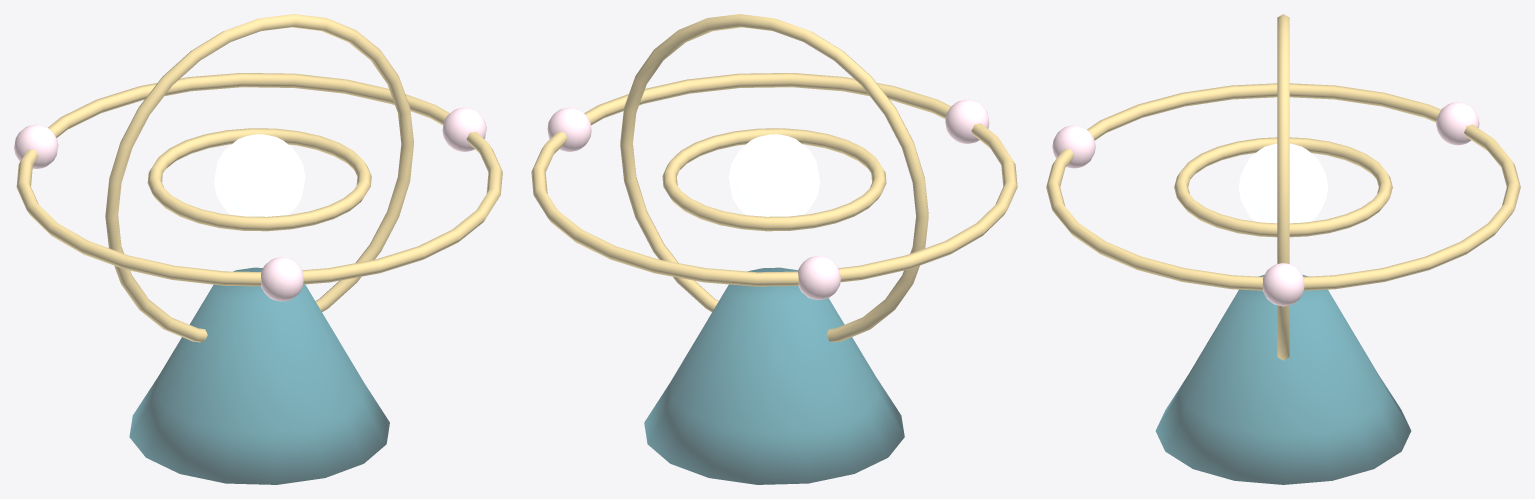
Rendered from atlantis_detail_astrolabe.glb.
The picture shows the model from 3 angles, left to right: view 1: azimuth 30°, elevation 25°; view 2: azimuth 150°, elevation 25°; view 3: azimuth 270°, elevation 25°; orthographic projection. The views are drawn at different scales.
Visible parts, largest first — view 1: atlantis_detail_astrolabe_surface; view 2: atlantis_detail_astrolabe_surface; view 3: atlantis_detail_astrolabe_surface.
Part boxes in pixels (x1=…): atlantis_detail_astrolabe_surface: x1=14, y1=14, x2=502, y2=484; atlantis_detail_astrolabe_surface: x1=531, y1=14, x2=1017, y2=484; atlantis_detail_astrolabe_surface: x1=1046, y1=14, x2=1520, y2=484.
Bounding box in the file's own units: 3.83 × 3.45 × 3.71.
